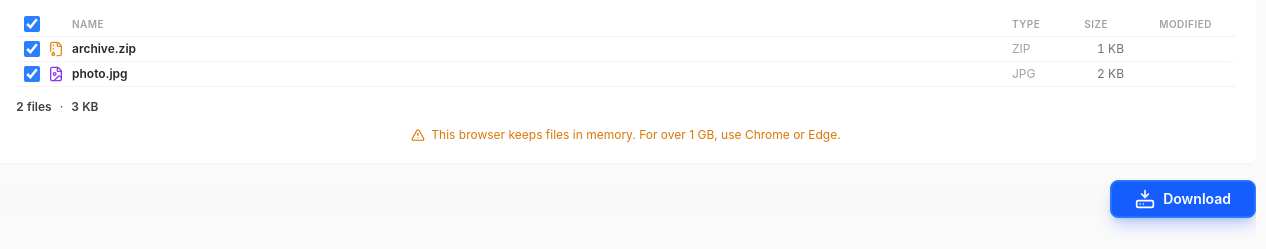
ReceiverView Component UI & Interaction › choosing which files to download › counts only the ticked files under the list
Expected: the element with test id "file-totals" shows "2 files", left=16, top=99, right=52, bottom=114
Step 1. Click the checkbox labelled "archive.zip zip 1 KB" → [32, 49], box left=24, top=41, right=40, bottom=57
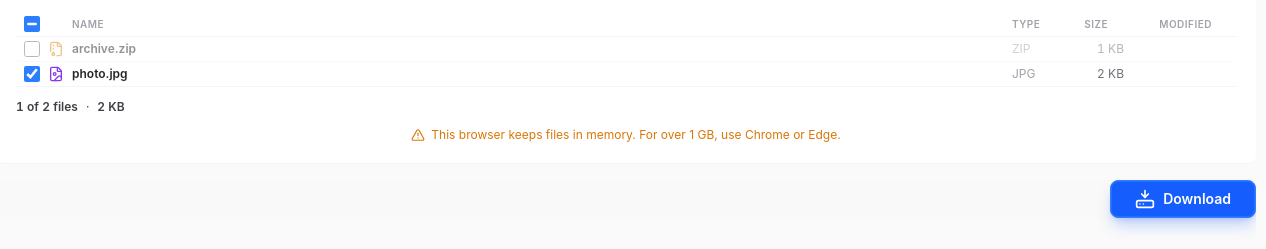
Result: the element with test id "file-totals" shows "1 of 2 files" at left=16, top=99, right=78, bottom=114
